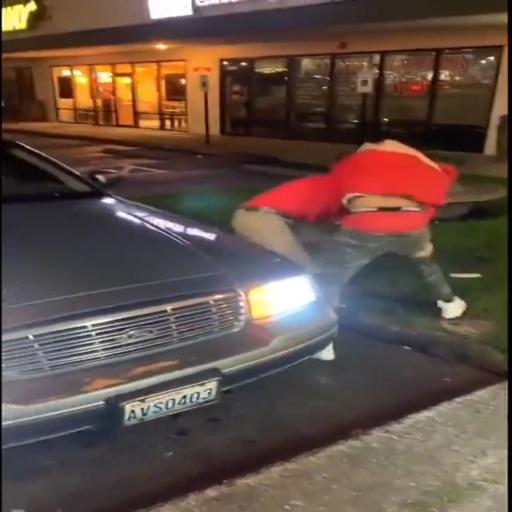violencia: (216, 128, 486, 367)
